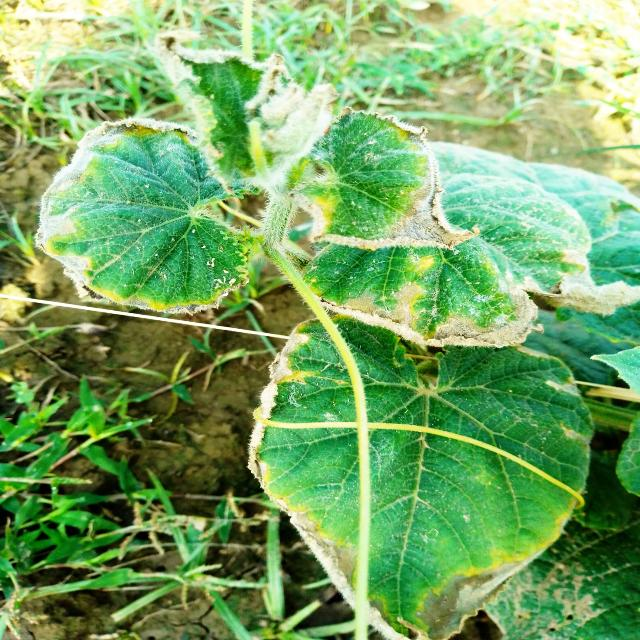Gummy-Stem-Blight: (243, 322, 553, 640), (33, 116, 255, 315), (318, 248, 640, 350), (312, 114, 481, 251)
